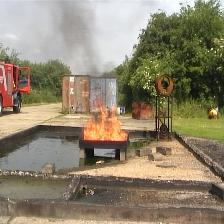fire: (83, 96, 128, 141)
